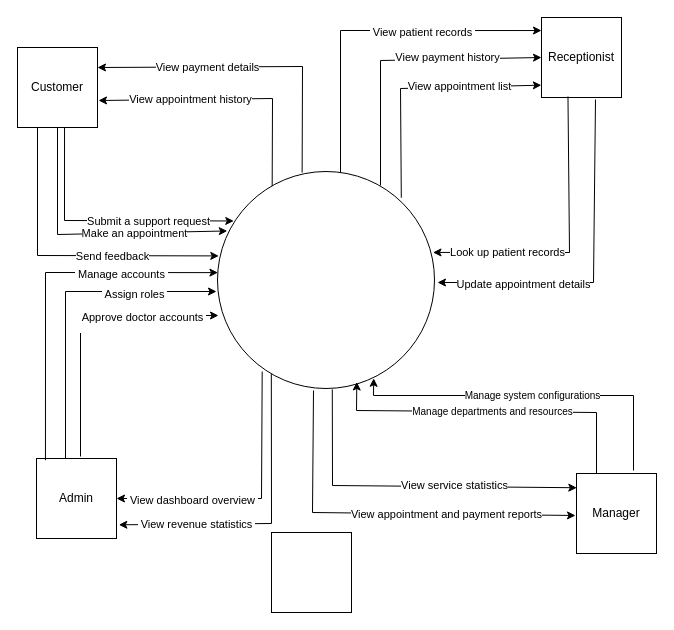
Image size: 674x630. Some labels were removed from this diagram. Each missing label, with the centre of its shape:
Guest: point 311,572
Medical service system: point 325,279
